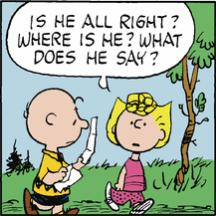charlie: (23, 86, 98, 216)
